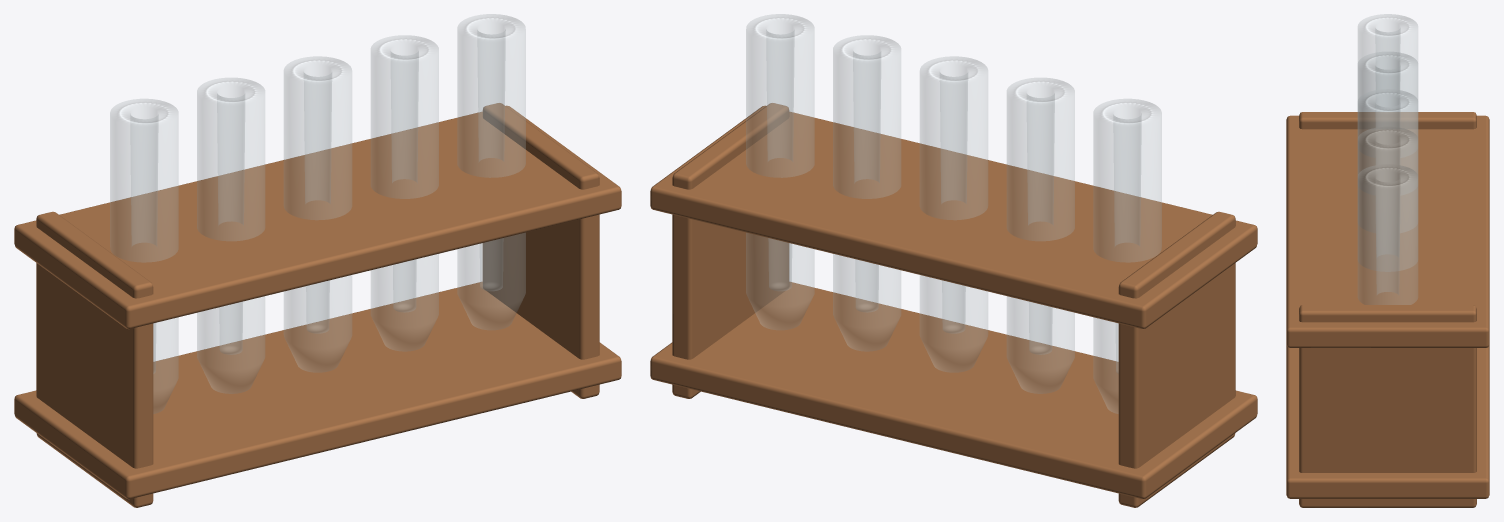
The model's file is wp-porte-tubes.glb.
The picture shows the model from 3 angles, left to right: view 1: azimuth 30°, elevation 25°; view 2: azimuth 150°, elevation 25°; view 3: azimuth 270°, elevation 25°; orthographic projection. The views are drawn at different scales.
Visible parts, largest first — view 1: wp-porte-tubes; view 2: wp-porte-tubes; view 3: wp-porte-tubes.
Part boxes in pixels (bbox=[...]): wp-porte-tubes: bbox=[14, 14, 621, 507]; wp-porte-tubes: bbox=[650, 14, 1257, 507]; wp-porte-tubes: bbox=[1286, 14, 1489, 507].
Size of the model in its own units: 0.3 by 0.2 by 0.12.
